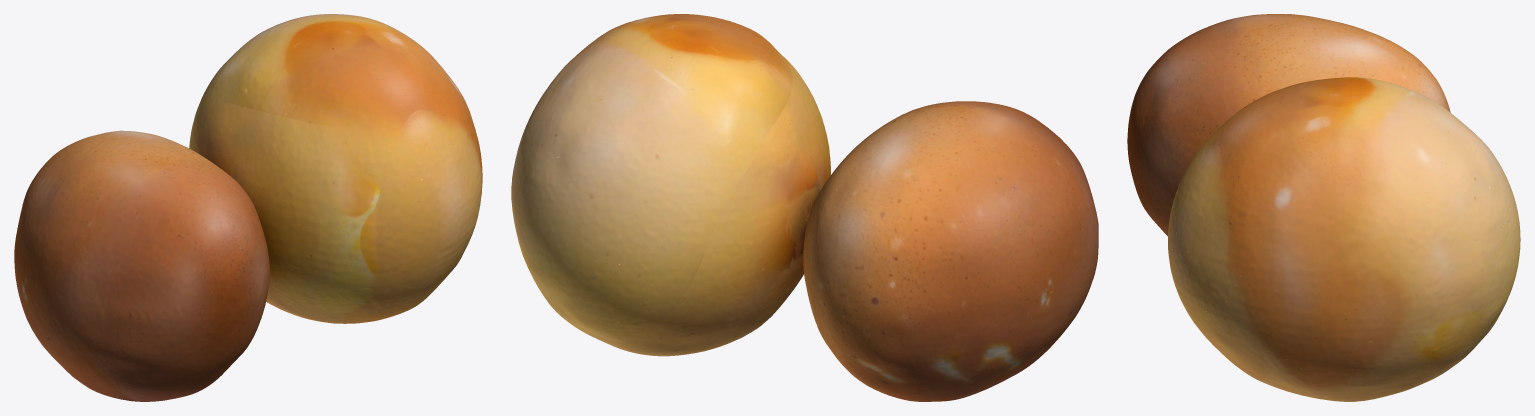
File: egg.glb
The picture shows the model from 3 angles, left to right: view 1: azimuth 30°, elevation 25°; view 2: azimuth 150°, elevation 25°; view 3: azimuth 270°, elevation 25°; orthographic projection. The views are drawn at different scales.
Visible parts, largest first — view 1: _gltfNode_0, _gltfNode_1; view 2: _gltfNode_1, _gltfNode_0; view 3: _gltfNode_1, _gltfNode_0.
Part boxes in pixels (x1=…): _gltfNode_0: x1=18, y1=15, x2=482, y2=401; _gltfNode_1: x1=14, y1=14, x2=482, y2=401; _gltfNode_1: x1=511, y1=14, x2=1098, y2=401; _gltfNode_0: x1=511, y1=15, x2=1098, y2=401; _gltfNode_1: x1=1171, y1=14, x2=1520, y2=401; _gltfNode_0: x1=1127, y1=28, x2=1520, y2=401.
Bounding box in the file's own units: 1.9 × 1.15 × 1.36.
Materials: 1 (1 with a texture image).
